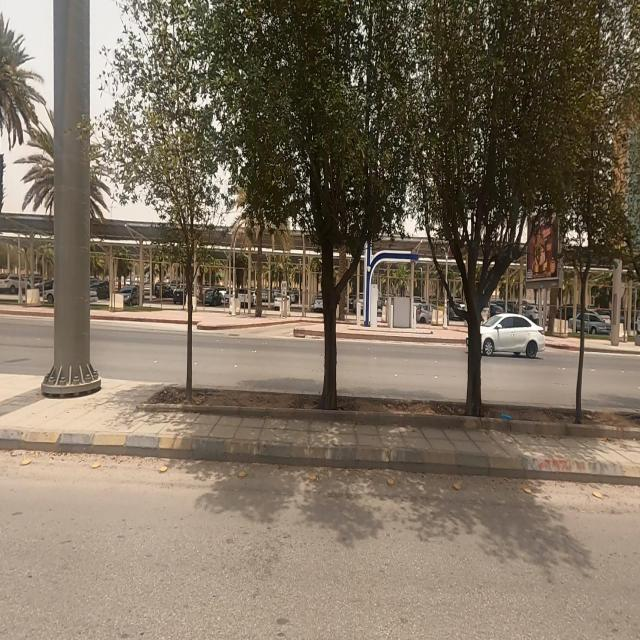debris: (476, 392, 525, 446)
